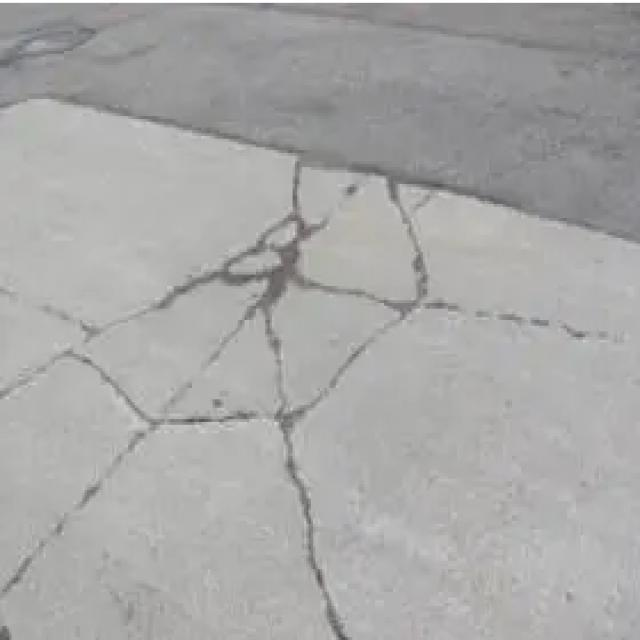Drain Hole: (221, 139, 448, 532)
